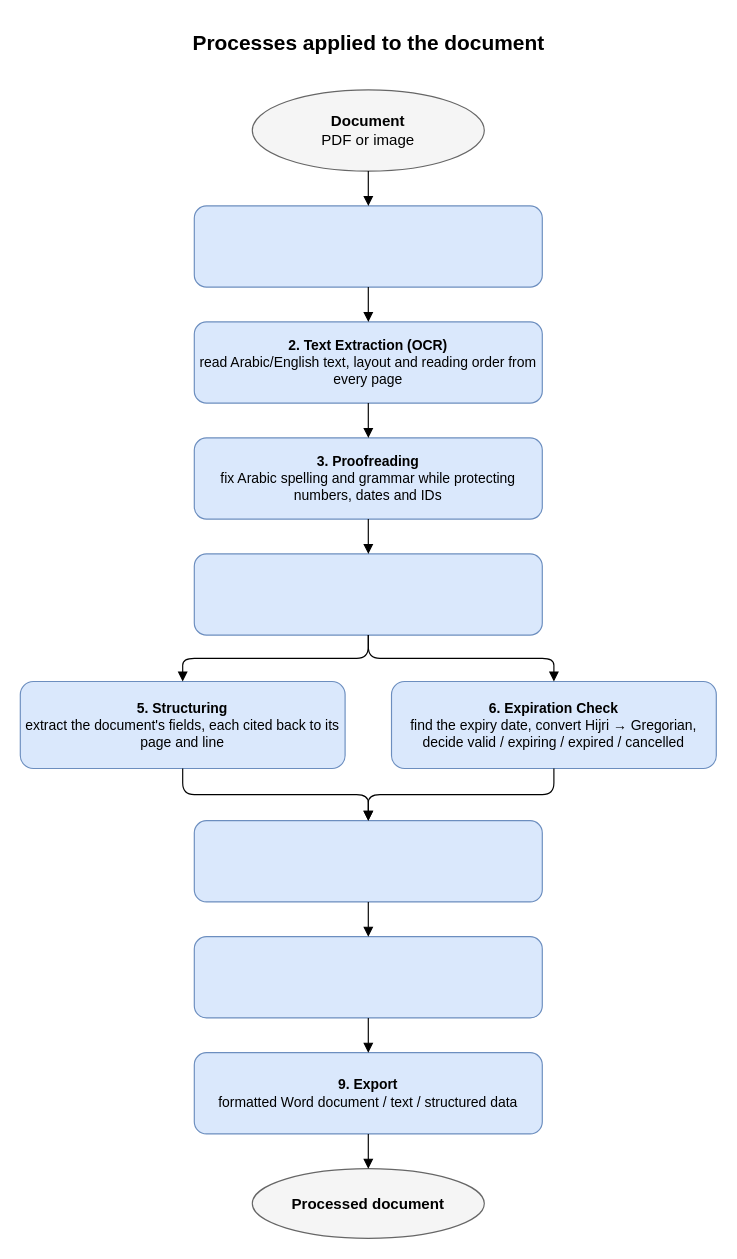
This 737x1259 diagram has some shape labels left out. Here are the shapes that lost their labels. From the top down, the box of each, then its label:
(193, 205, 542, 287): 1. QR Scanning detect QR codes, safety-check the links, capture linked pages
(193, 553, 542, 635): 4. Classification identify the document type (وكالة، حصر ورثة، ملكية عقار …)
(193, 820, 542, 902): 7. Related Regulations retrieve the regulation clauses relevant to the document
(193, 936, 542, 1018): 8. Q&A answer questions using only the document, with citations
